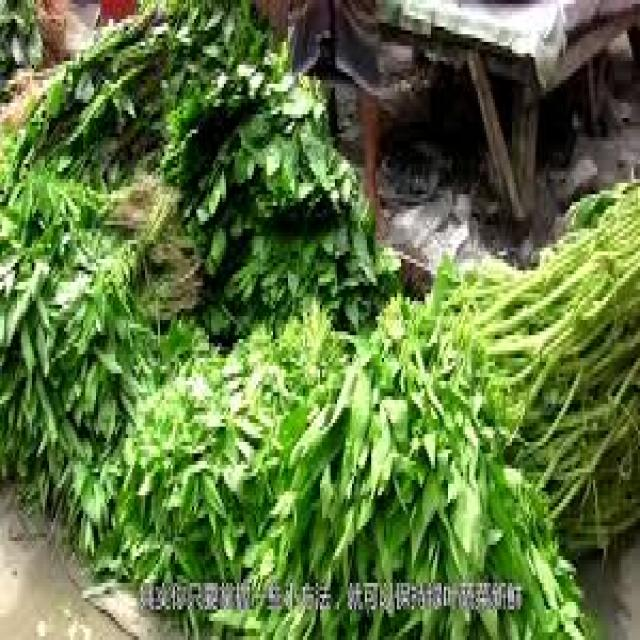organic waste: (209, 263, 597, 636), (0, 114, 201, 560), (433, 171, 638, 545), (164, 34, 401, 347), (76, 316, 266, 602), (0, 0, 256, 171), (0, 0, 41, 80), (32, 0, 73, 76)
